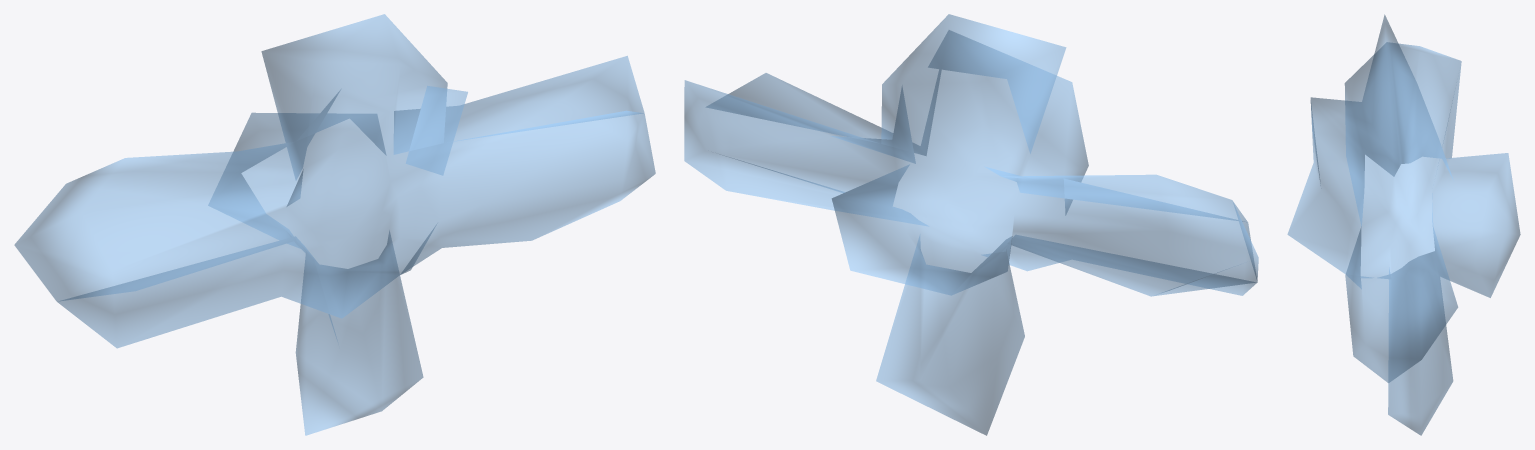
Rendered from tlaser_shield.gltf.
3 views of the same model, side by side, from view 1: azimuth 30°, elevation 25°; view 2: azimuth 150°, elevation 25°; view 3: azimuth 270°, elevation 25° (orthographic). The views are drawn at different scales.
Parts seen in each view (by area): view 1: tlaser.shield; view 2: tlaser.shield; view 3: tlaser.shield.
Part boxes in pixels (x1,y1,x2,y2): tlaser.shield: [14, 14, 655, 435]; tlaser.shield: [684, 14, 1258, 435]; tlaser.shield: [1287, 14, 1520, 435].
Bounding box in the file's own units: 21.17 × 13.9 × 7.85.
